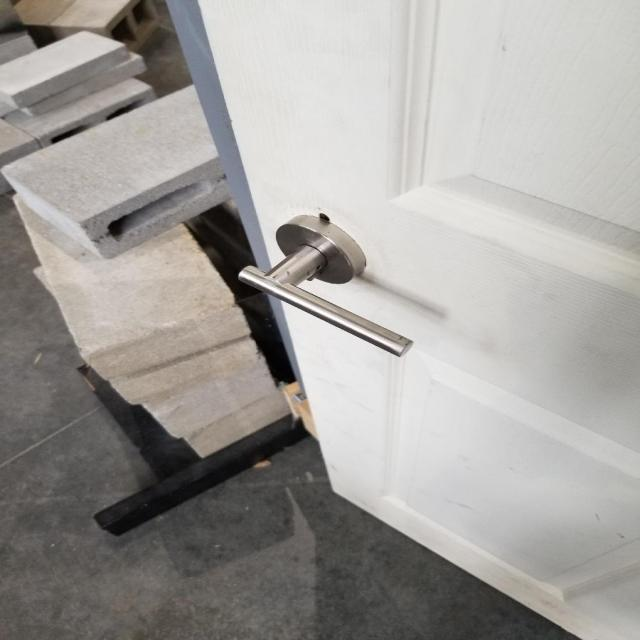door: (230, 209, 416, 361)
